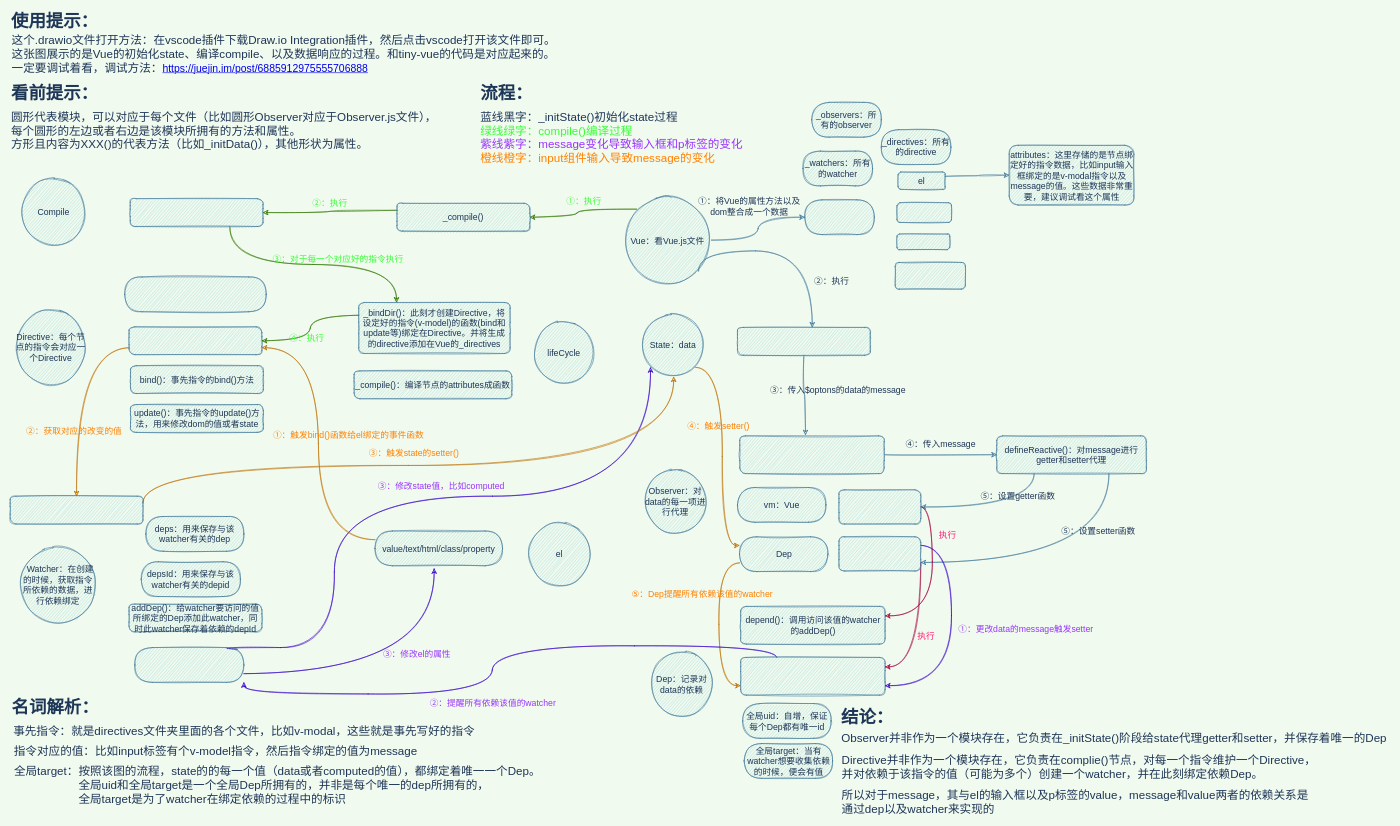
Image size: 1400x826. Some labels were removed from this diagram. The centre of each missing label's shape, as x and y in pixels:
"$options" goes at point (839, 217).
"_bind()：生成watcher，并绑定directive的指令对应的值在watcher上" goes at point (195, 340).
"_containerAttrs：el的一些属性" goes at point (930, 275).
"_initData()：为$options中的data添加代理，并绑定在Vue上" goes at point (803, 341).
"cb：是Directive传递进来的'事先指令'的update方法" goes at point (189, 664).
"compileDirectives()：根据节点的attributes属性与‘事先指令’（比如v-model）对应起来" goes at point (196, 212).
"data" goes at point (923, 212).
"getter()" goes at point (879, 506).
"method" goes at point (923, 241).
"notify()：提醒所有依赖于该值的watcher更新" goes at point (812, 676).
"observe()：对data的每一项设置getter和setter并维护一个专属Dep" goes at point (811, 454).
"setter()" goes at point (879, 553).
"setter()：通过全局的Vue+watcher中保存的字段名来设置state中对应的值" goes at point (76, 510).
"watcher：目前只有编译指令的时候才对与指令有关的值创建对应的watcher" goes at point (195, 294).
